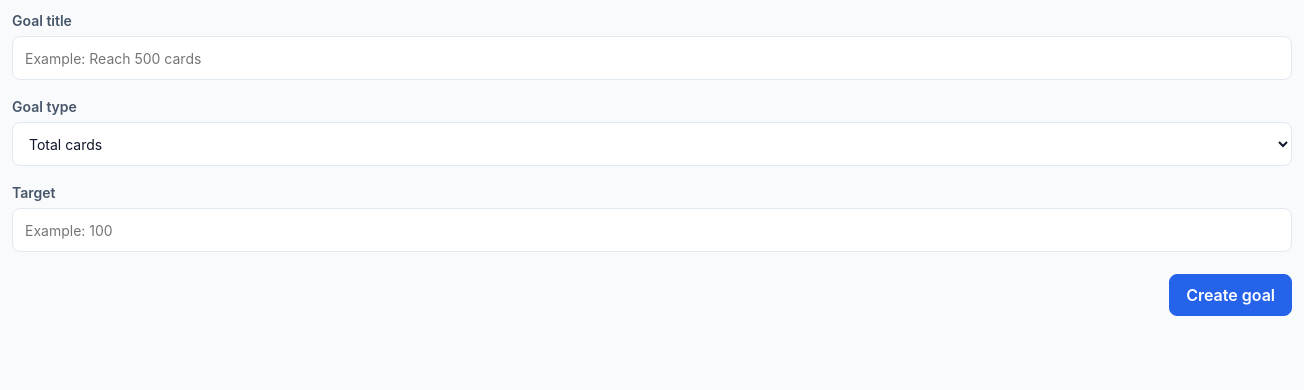
Test: CollectionGoalForm › should require goal title
Step 1. Type "100" into the number field labelled "Target" → point(652, 230), box [12,208,1292,252]
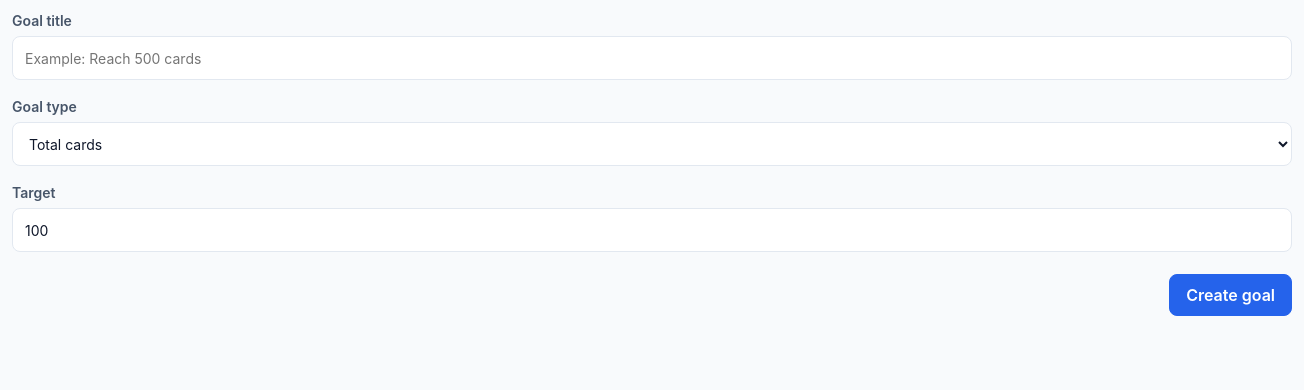
Step 2. Click the button "Create goal" → point(1231, 295), box [1169,274,1292,316]
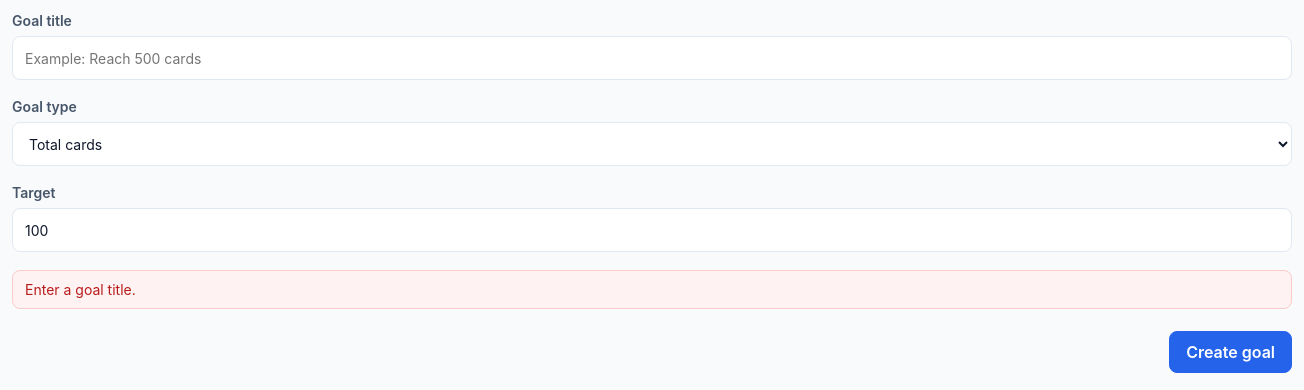
Result: the message reads "Enter a goal title." at [25,281,136,298]
